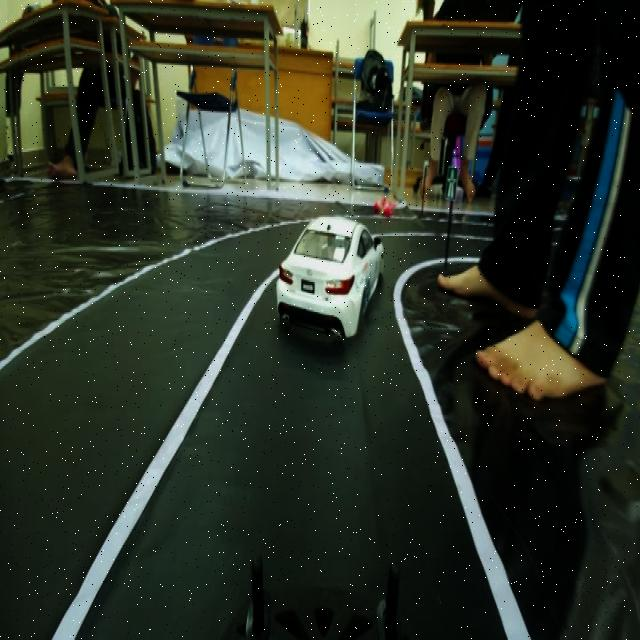car: (275, 196, 373, 356)
highway_entry: (444, 161, 462, 202)
